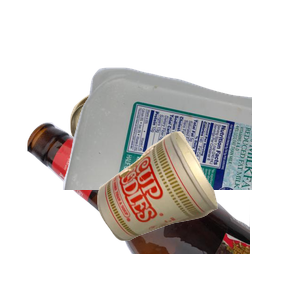glass: (25, 120, 265, 300)
metal: (67, 87, 206, 234)
plastic: (60, 65, 300, 245)
trash: (95, 129, 300, 300)
